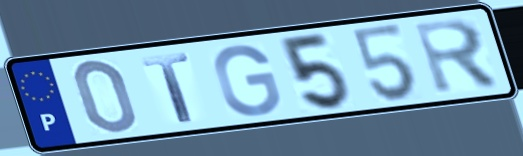0: (69, 57, 140, 137)
5: (274, 29, 356, 113), (348, 20, 419, 106)
G: (210, 42, 284, 119)
R: (410, 16, 505, 98)
T: (138, 50, 196, 125)
